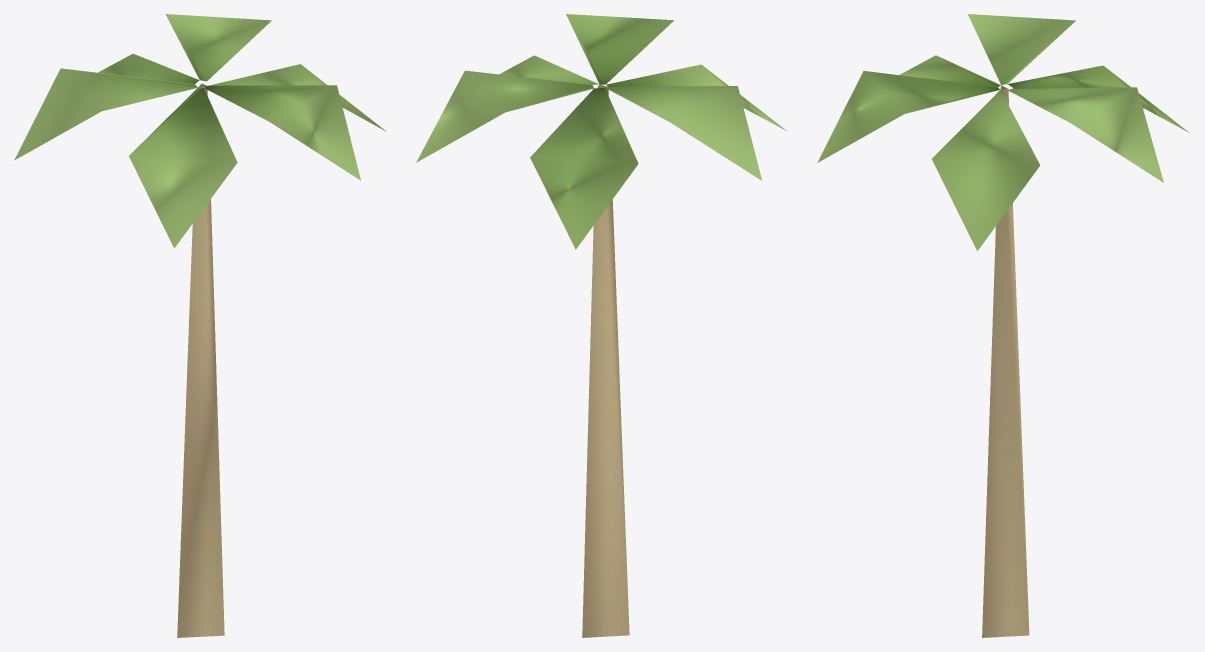
3 views of the same model, side by side, from view 1: azimuth 30°, elevation 25°; view 2: azimuth 150°, elevation 25°; view 3: azimuth 270°, elevation 25° (orthographic).
Parts seen in each view (by area): view 1: LOD2Palm; view 2: LOD2Palm; view 3: LOD2Palm.
Part boxes in pixels (<box>): LOD2Palm: <box>14,14,386,637</box>; LOD2Palm: <box>416,14,787,637</box>; LOD2Palm: <box>817,14,1189,637</box>.
Size of the model in its own units: 11.01 by 17.01 by 10.27.
1 material, 1 textured.
